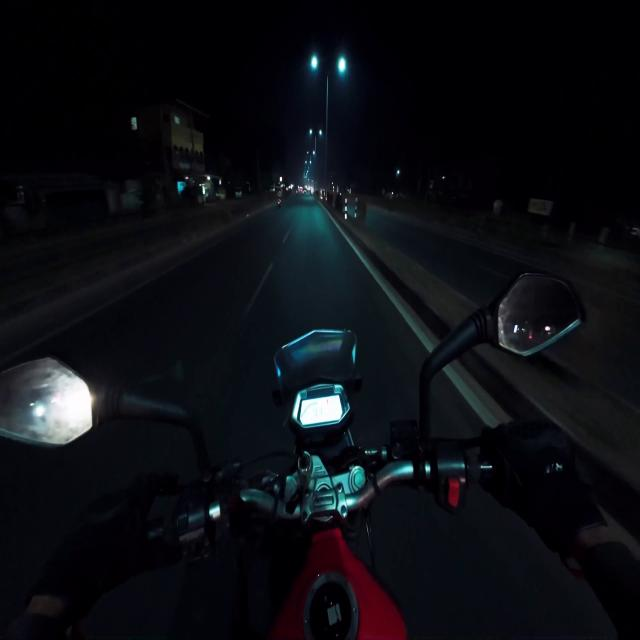car: (235, 187, 242, 198)
motorcycle: (0, 274, 584, 639), (278, 198, 281, 207)
